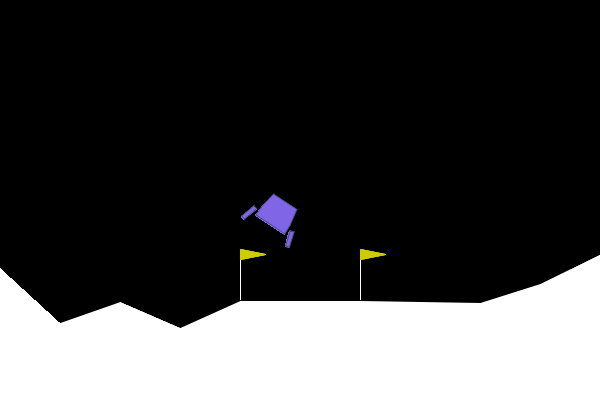lander: (239, 184, 311, 250)
